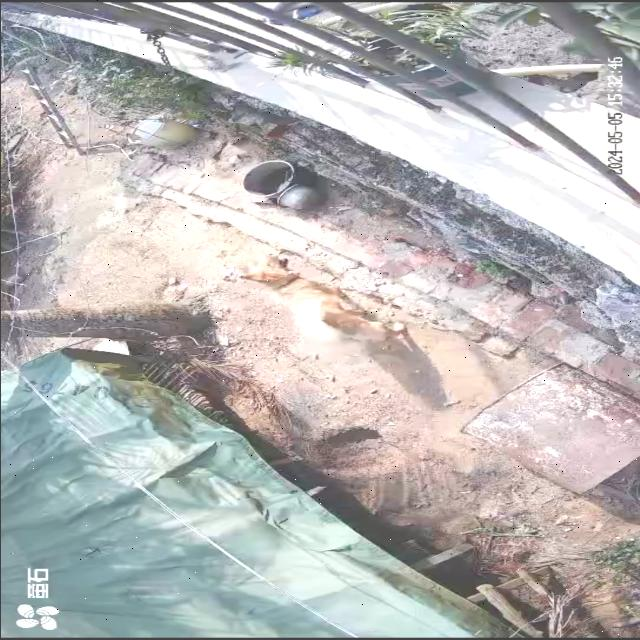dog: (238, 256, 390, 344)
